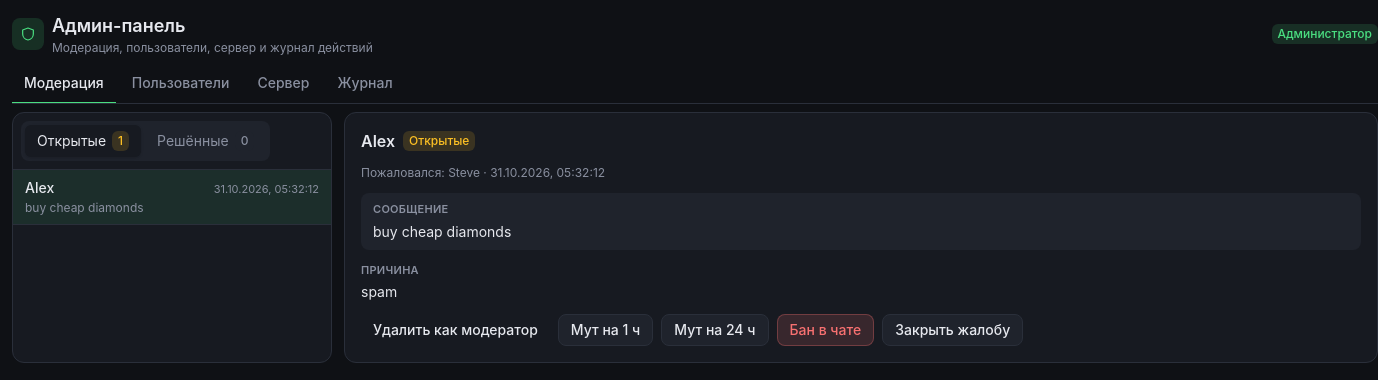
it: moderation tab › filters reports between open and resolved
Expected: the text "Alex" is shown, x1=25 y1=179 x2=54 y2=196
Expected: the 1st text "buy cheap diamonds" is shown, x1=25 y1=200 x2=144 y2=216
Click the radio button labelled "Решённые 0" at {"x": 206, "y": 141}, box x1=145 y1=125 x2=266 y2=157
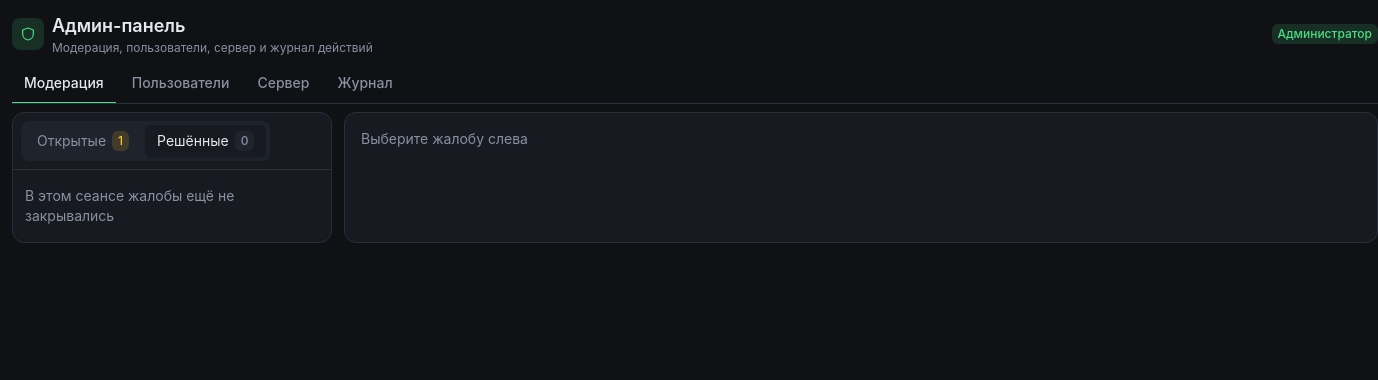
Expected: the text "В этом сеансе жалобы ещё не закрывались" is shown, x1=25 y1=187 x2=234 y2=224
Click the radio button labelled "Открытые 1" at {"x": 83, "y": 141}, box x1=25 y1=125 x2=141 y2=157
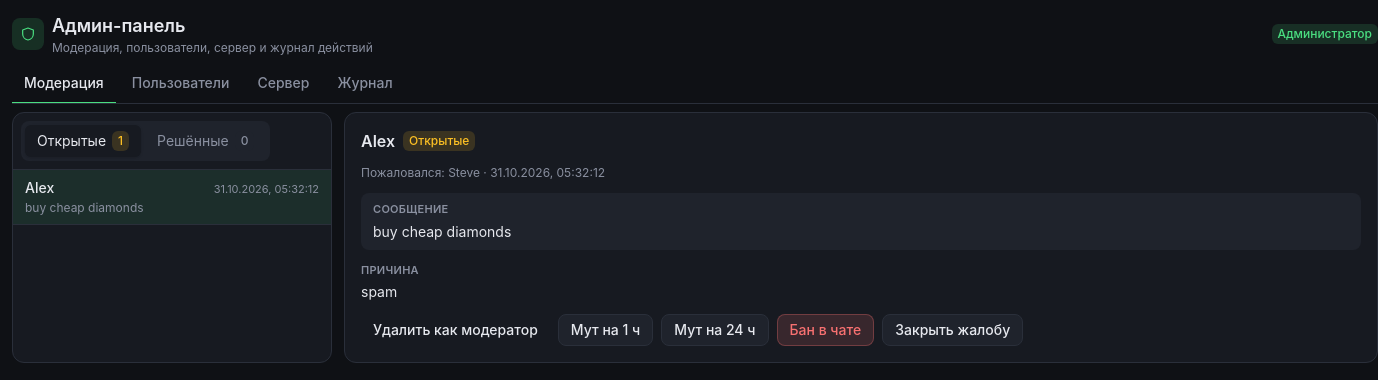
Click the button "Закрыть жалобу" at {"x": 953, "y": 330}, box x1=882 y1=314 x2=1023 y2=346
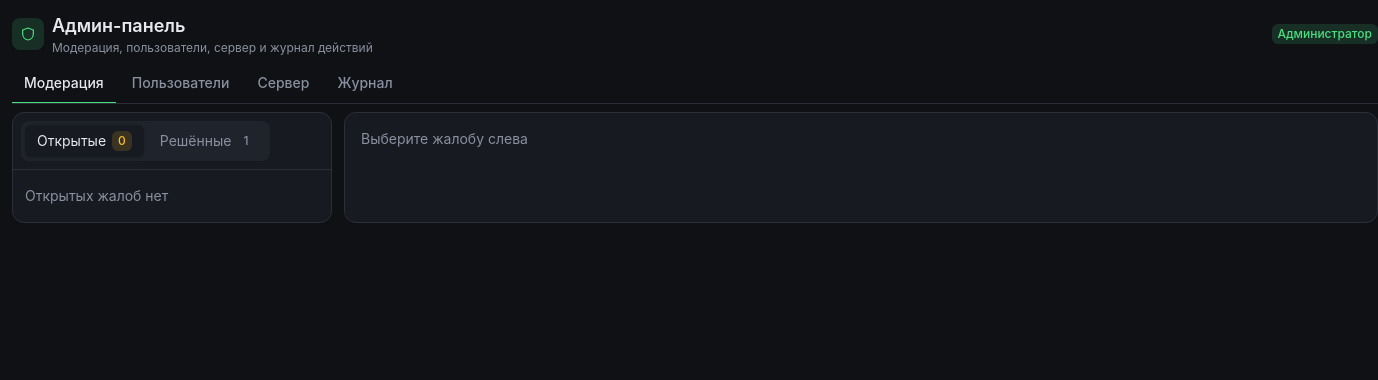
Click the radio button labelled "Решённые 1" at {"x": 207, "y": 141}, box x1=148 y1=125 x2=266 y2=157
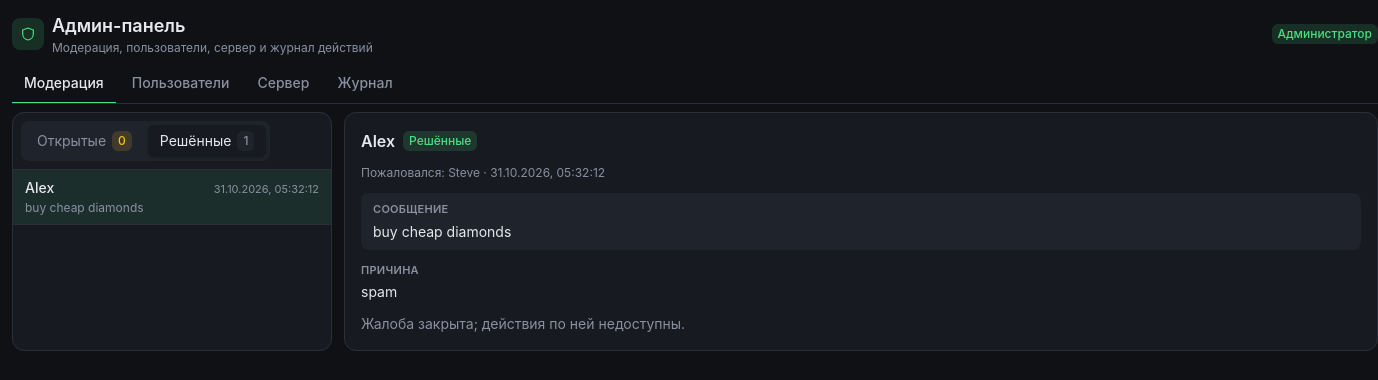
Expected: the text "Alex" is shown, x1=25 y1=179 x2=54 y2=196
